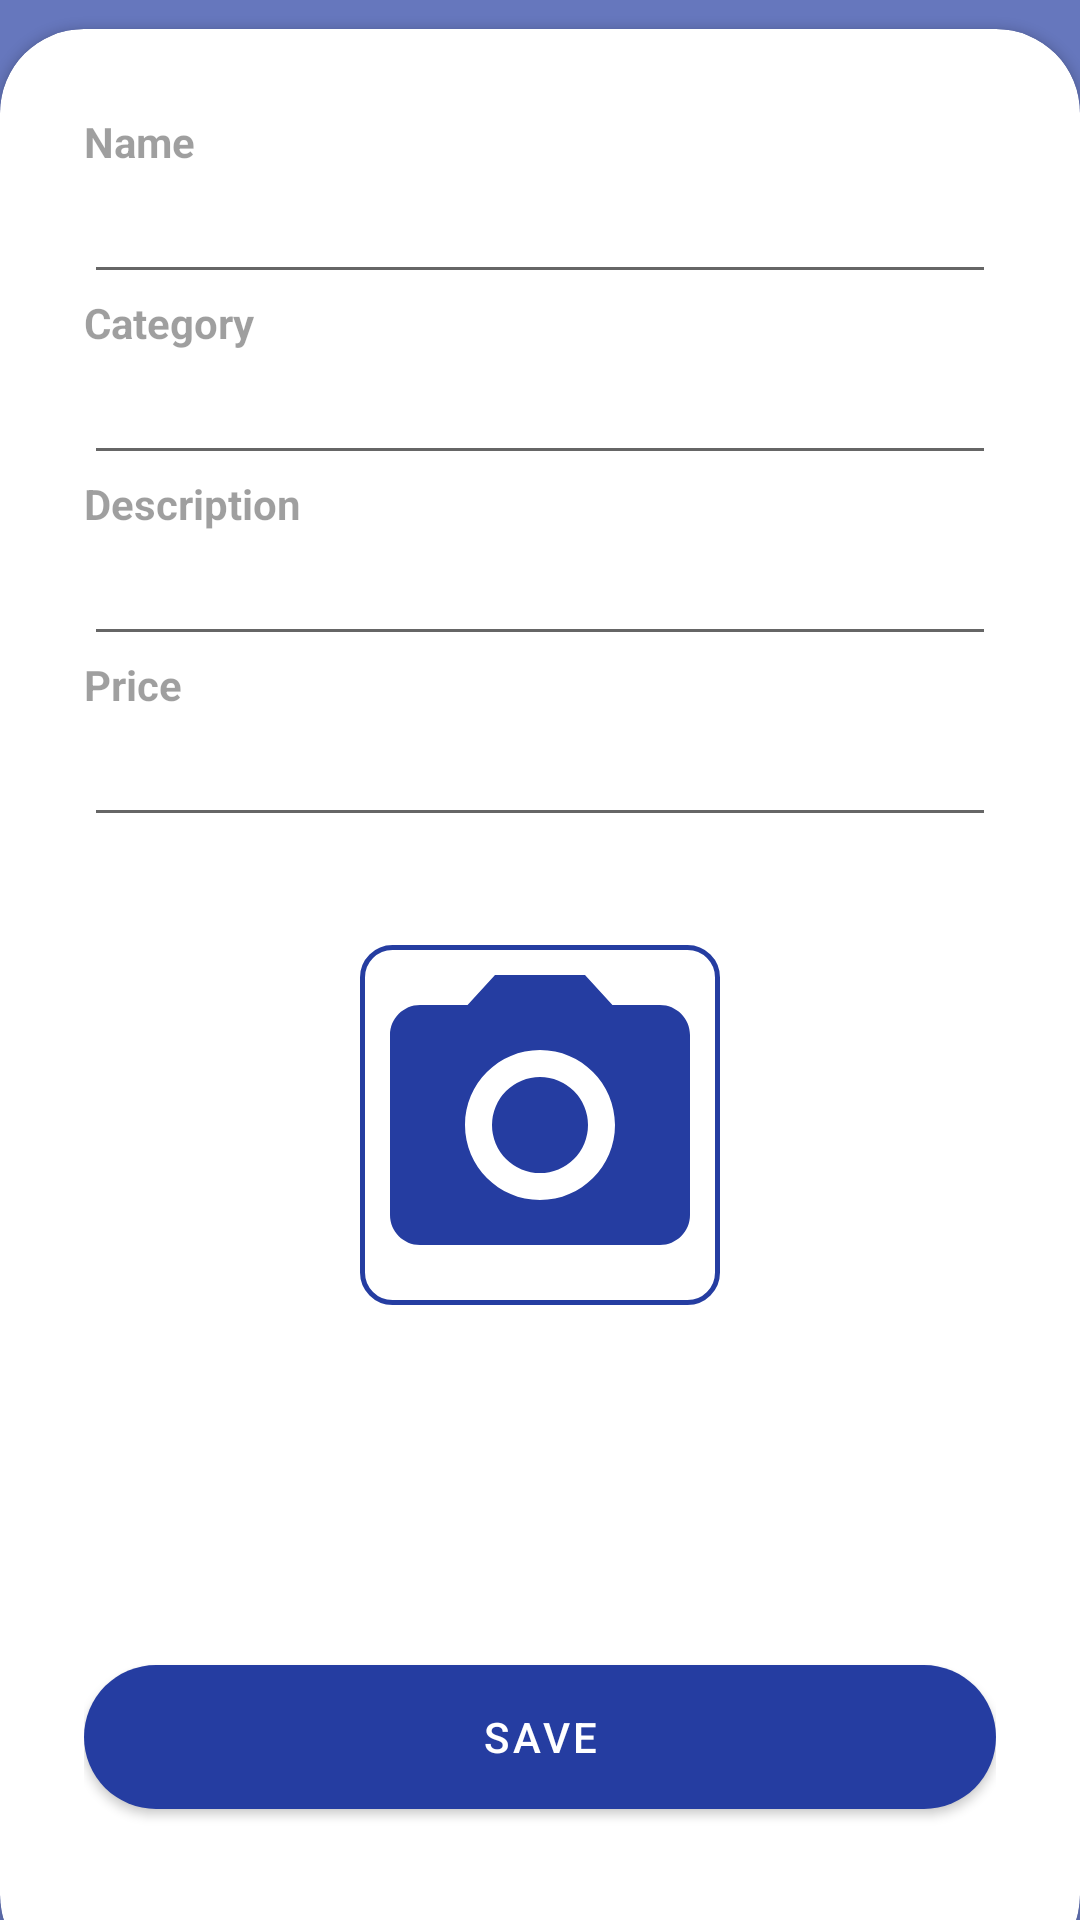

Named icons in this screenshot (1080×1920) and their bounding boxes, bbox=(x1, y1, x2, y2):
camera: bbox=(360, 945, 720, 1305)
